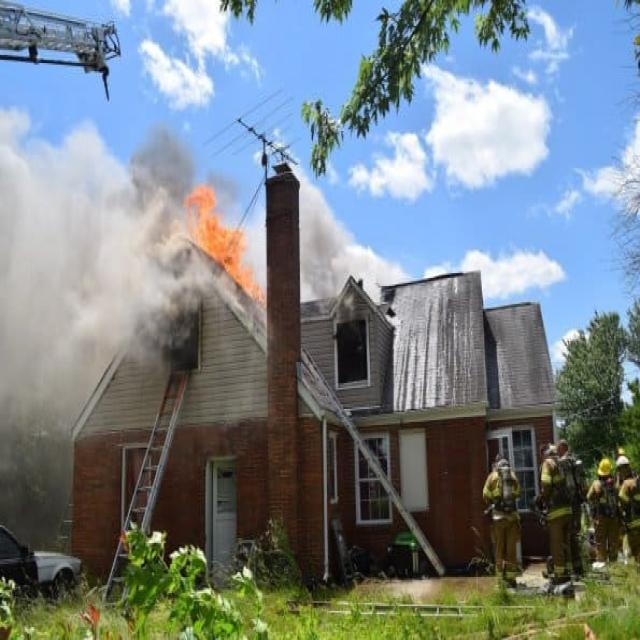fire: (192, 178, 260, 295)
smoke: (3, 150, 189, 358), (0, 373, 75, 500)
